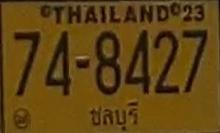2: (154, 30, 178, 93)
4: (44, 30, 70, 95), (124, 29, 149, 93)
7: (12, 30, 40, 95), (182, 29, 206, 92)
8: (95, 31, 120, 94)
CBI: (86, 99, 145, 133)
